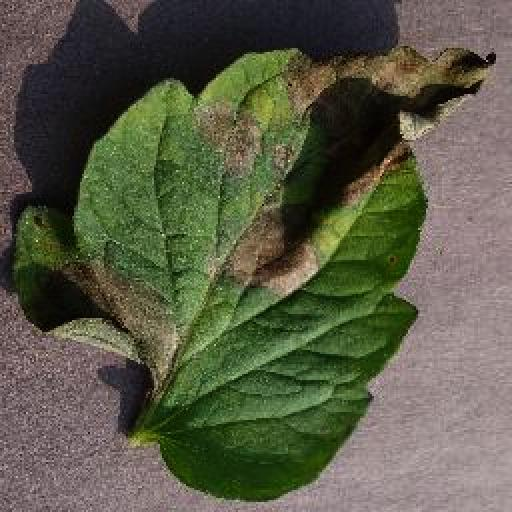disease_tomato: (14, 42, 500, 504)
